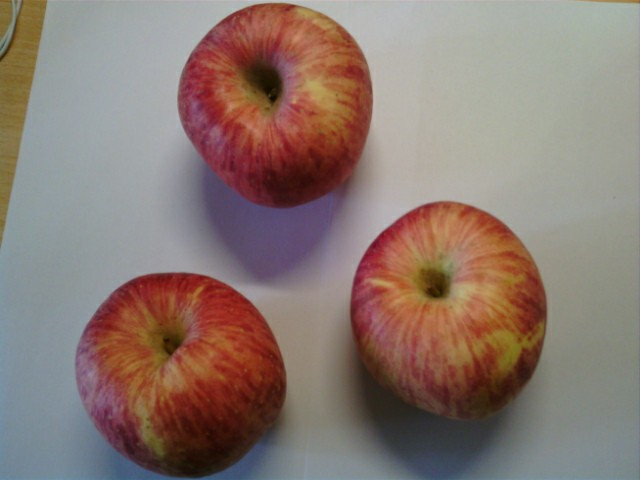normal_apple: (349, 201, 550, 424), (77, 272, 290, 480), (177, 1, 374, 211)
